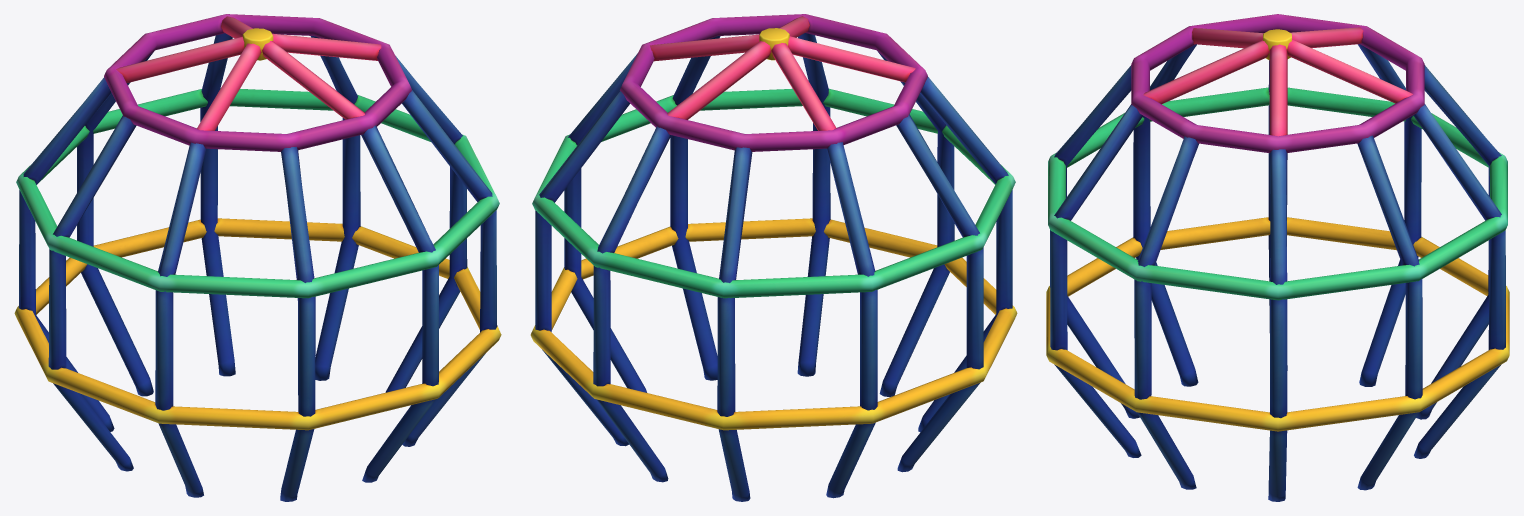
Rendered from SE_Climber_01.fbx.
The picture shows the model from 3 angles, left to right: view 1: azimuth 30°, elevation 25°; view 2: azimuth 150°, elevation 25°; view 3: azimuth 270°, elevation 25°; orthographic projection.
Visible parts, largest first — view 1: SE_Climber_01; view 2: SE_Climber_01; view 3: SE_Climber_01.
Boxes of the visible parts, <box> form: SE_Climber_01: <box>14,14,501,501</box>; SE_Climber_01: <box>530,14,1017,501</box>; SE_Climber_01: <box>1046,14,1509,501</box>.
Size of the model in its own units: 6.52 by 5.91 by 6.2.
